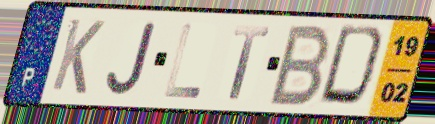B: (265, 23, 334, 108)
D: (315, 23, 391, 111)
J: (104, 19, 160, 98)
K: (48, 15, 108, 97)
L: (161, 21, 204, 101)
T: (229, 25, 272, 102)
